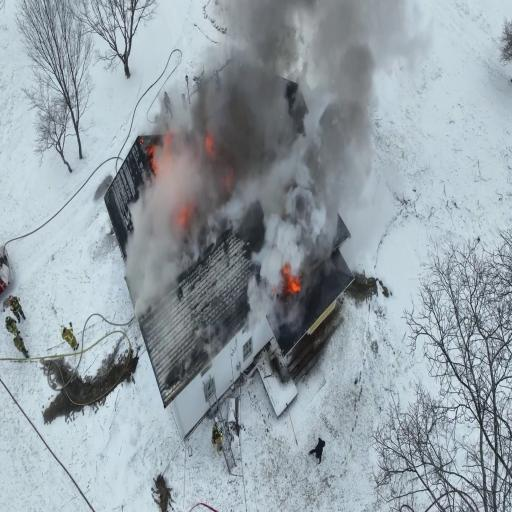smoke: (258, 27, 366, 198)
